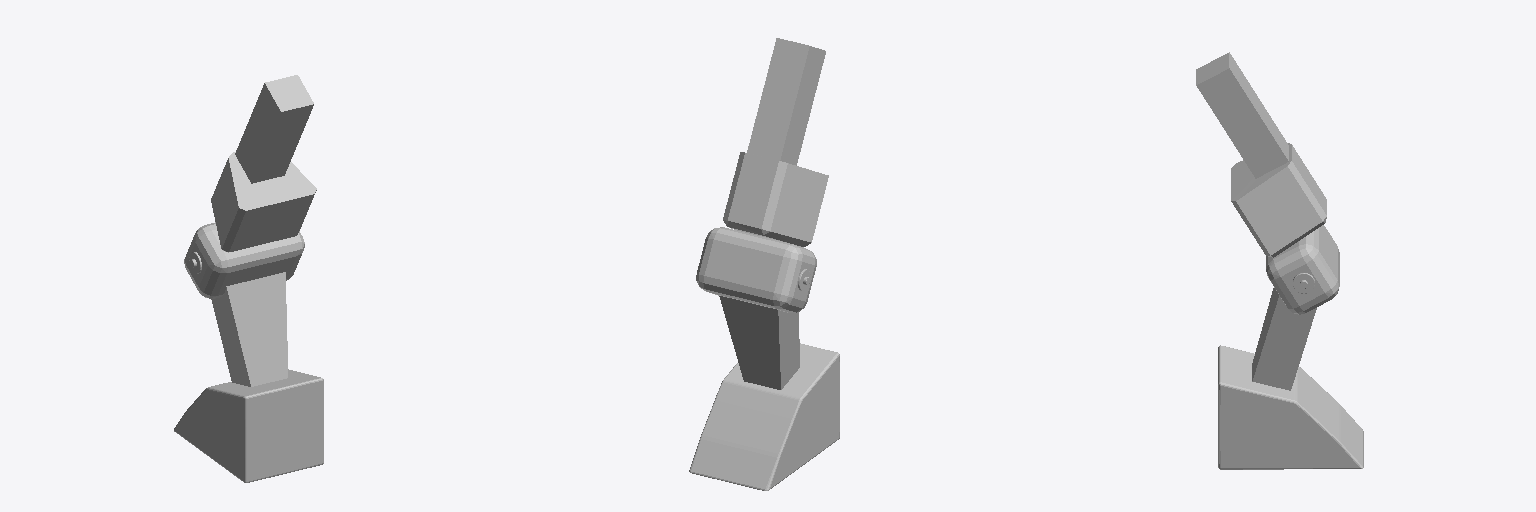
The model's file is MeleeRobot_leftleg.obj.
3 views of the same model, side by side, from view 1: azimuth 30°, elevation 25°; view 2: azimuth 150°, elevation 25°; view 3: azimuth 270°, elevation 25° (orthographic).
Visible parts, largest first — view 1: Left_Leg Core L_Thigh L_Knee L_KneeJoint L_KneeJointCap L_Shin L, Left_Leg Core L_Thigh L_Knee L_KneeJoint L_KneeJointCap L_Shin, Left_Leg Core L_Thigh, Left_Leg Core, Left_Leg Core L_Thigh L_Knee; view 2: Left_Leg Core L_Thigh L_Knee L_KneeJoint L_KneeJointCap L_Shin L, Left_Leg Core L_Thigh L_Knee, Left_Leg Core L_Thigh, Left_Leg Core, Left_Leg Core L_Thigh L_Knee L_KneeJoint L_KneeJointCap L_Shin; view 3: Left_Leg Core L_Thigh L_Knee L_KneeJoint L_KneeJointCap L_Shin L, Left_Leg Core L_Thigh, Left_Leg Core, Left_Leg Core L_Thigh L_Knee, Left_Leg Core L_Thigh L_Knee L_KneeJoint L_KneeJointCap L_Shin.
Boxes of the visible parts, box(x1,y1,x2,y2) form: Left_Leg Core L_Thigh L_Knee L_KneeJoint L_KneeJointCap L_Shin L: box(174, 369, 323, 482); Left_Leg Core L_Thigh L_Knee L_KneeJoint L_KneeJointCap L_Shin: box(211, 272, 287, 386); Left_Leg Core L_Thigh: box(211, 152, 316, 252); Left_Leg Core: box(235, 75, 313, 183); Left_Leg Core L_Thigh L_Knee: box(184, 222, 304, 298); Left_Leg Core L_Thigh L_Knee L_KneeJoint L_KneeJointCap L_Shin L: box(689, 343, 839, 490); Left_Leg Core L_Thigh L_Knee: box(696, 227, 816, 312); Left_Leg Core L_Thigh: box(723, 152, 828, 246); Left_Leg Core: box(747, 38, 825, 165); Left_Leg Core L_Thigh L_Knee L_KneeJoint L_KneeJointCap L_Shin: box(719, 296, 799, 389); Left_Leg Core L_Thigh L_Knee L_KneeJoint L_KneeJointCap L_Shin L: box(1218, 345, 1363, 469); Left_Leg Core L_Thigh: box(1231, 143, 1326, 257); Left_Leg Core: box(1196, 52, 1288, 178); Left_Leg Core L_Thigh L_Knee: box(1266, 225, 1339, 314); Left_Leg Core L_Thigh L_Knee L_KneeJoint L_KneeJointCap L_Shin: box(1252, 288, 1316, 390).
Bounding box in the file's own units: 1.1 × 3.94 × 1.52.